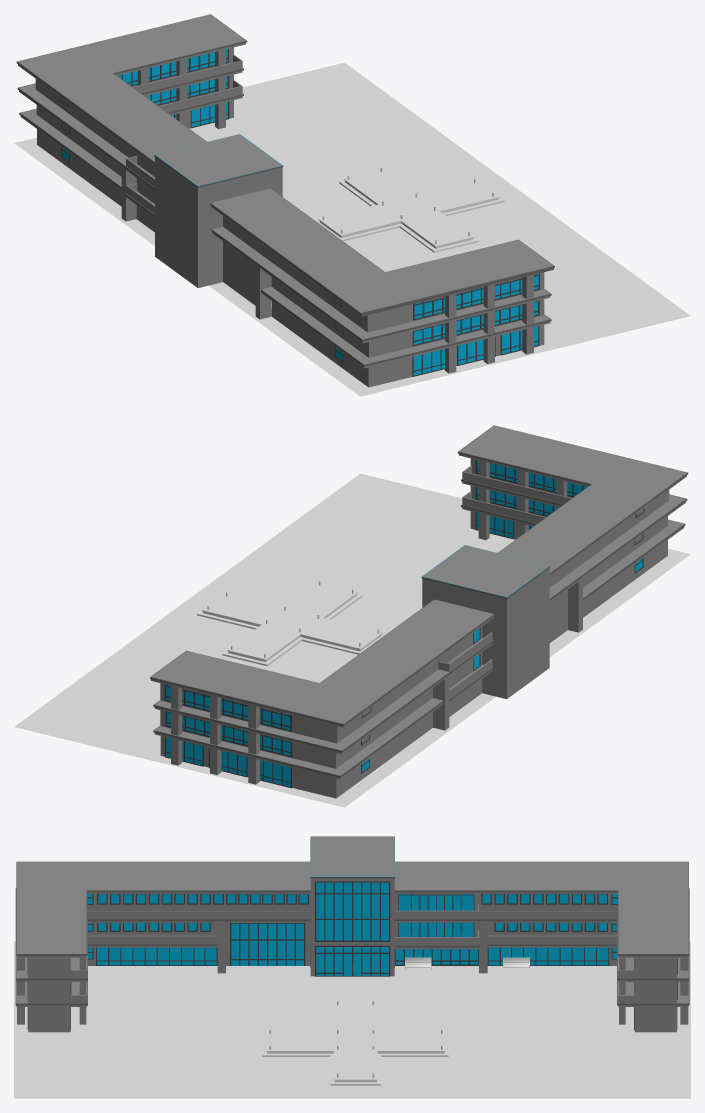
Rendered from school2.2.fbx_Scene (1).fbx.
3 views of the same model, one above another, from view 1: azimuth 30°, elevation 25°; view 2: azimuth 150°, elevation 25°; view 3: azimuth 270°, elevation 25° (orthographic). The views are drawn at different scales.
Parts seen in each view (by area): view 1: Plane, Roof center.002, Roof center.003, Center, Балкон левого корпуса, Garden, Балкон правого корпуса, Cube.007, Cube.006, Балкон левого корпуса.001, Cube.005, Балкон 1йэтаж.001 (+14 smaller); view 2: Plane, Roof center.002, Roof center.003, Center, Garden, Балкон правого корпуса, Балкон левого корпуса, Cube.015, Roof center.001, Cube.013, Балкон левого корпуса.003, Cube.014 (+16 smaller); view 3: Plane, Roof center.002, Roof center.003, Center, Garden, Cube, Балкон 1йэтаж.002, Балкон левого корпуса, Балкон правого корпуса, Roof center.001, Балкон 1йэтаж.001, Cube.002 (+28 smaller).
Boxes of the visible parts, x1=… form: Plane: x1=14, y1=62, x2=690, y2=396; Roof center.002: x1=210, y1=188, x2=554, y2=316; Roof center.003: x1=16, y1=14, x2=247, y2=143; Center: x1=154, y1=134, x2=283, y2=287; Балкон левого корпуса: x1=211, y1=227, x2=551, y2=368; Garden: x1=316, y1=169, x2=504, y2=252; Балкон правого корпуса: x1=17, y1=68, x2=243, y2=221; Cube.007: x1=347, y1=325, x2=544, y2=387; Cube.006: x1=346, y1=272, x2=544, y2=332; Балкон левого корпуса.001: x1=445, y1=274, x2=533, y2=373; Cube.005: x1=347, y1=299, x2=544, y2=357; Балкон 1йэтаж.001: x1=133, y1=54, x2=242, y2=112; Plane: x1=14, y1=473, x2=690, y2=807; Roof center.002: x1=457, y1=425, x2=688, y2=576; Roof center.003: x1=150, y1=631, x2=451, y2=727; Center: x1=421, y1=545, x2=550, y2=699; Garden: x1=197, y1=583, x2=385, y2=666; Балкон правого корпуса: x1=153, y1=669, x2=449, y2=779; Балкон левого корпуса: x1=461, y1=479, x2=687, y2=632; Cube.015: x1=160, y1=736, x2=357, y2=798; Roof center.001: x1=391, y1=599, x2=494, y2=648; Cube.013: x1=160, y1=683, x2=358, y2=743; Балкон левого корпуса.003: x1=171, y1=686, x2=259, y2=784; Cube.014: x1=160, y1=710, x2=357, y2=768; Plane: x1=14, y1=941, x2=690, y2=1098; Roof center.002: x1=16, y1=861, x2=310, y2=957; Roof center.003: x1=479, y1=861, x2=688, y2=957; Center: x1=310, y1=836, x2=394, y2=976; Garden: x1=262, y1=1003, x2=448, y2=1085; Cube: x1=226, y1=923, x2=310, y2=965; Балкон 1йэтаж.002: x1=70, y1=911, x2=310, y2=1003; Балкон левого корпуса: x1=15, y1=888, x2=310, y2=1006; Балкон правого корпуса: x1=479, y1=888, x2=689, y2=1006; Roof center.001: x1=394, y1=861, x2=478, y2=893; Балкон 1йэтаж.001: x1=479, y1=911, x2=634, y2=1003; Cube.002: x1=88, y1=947, x2=216, y2=965.
Bounding box in the file's own units: 45.56 × 13.02 × 80.
